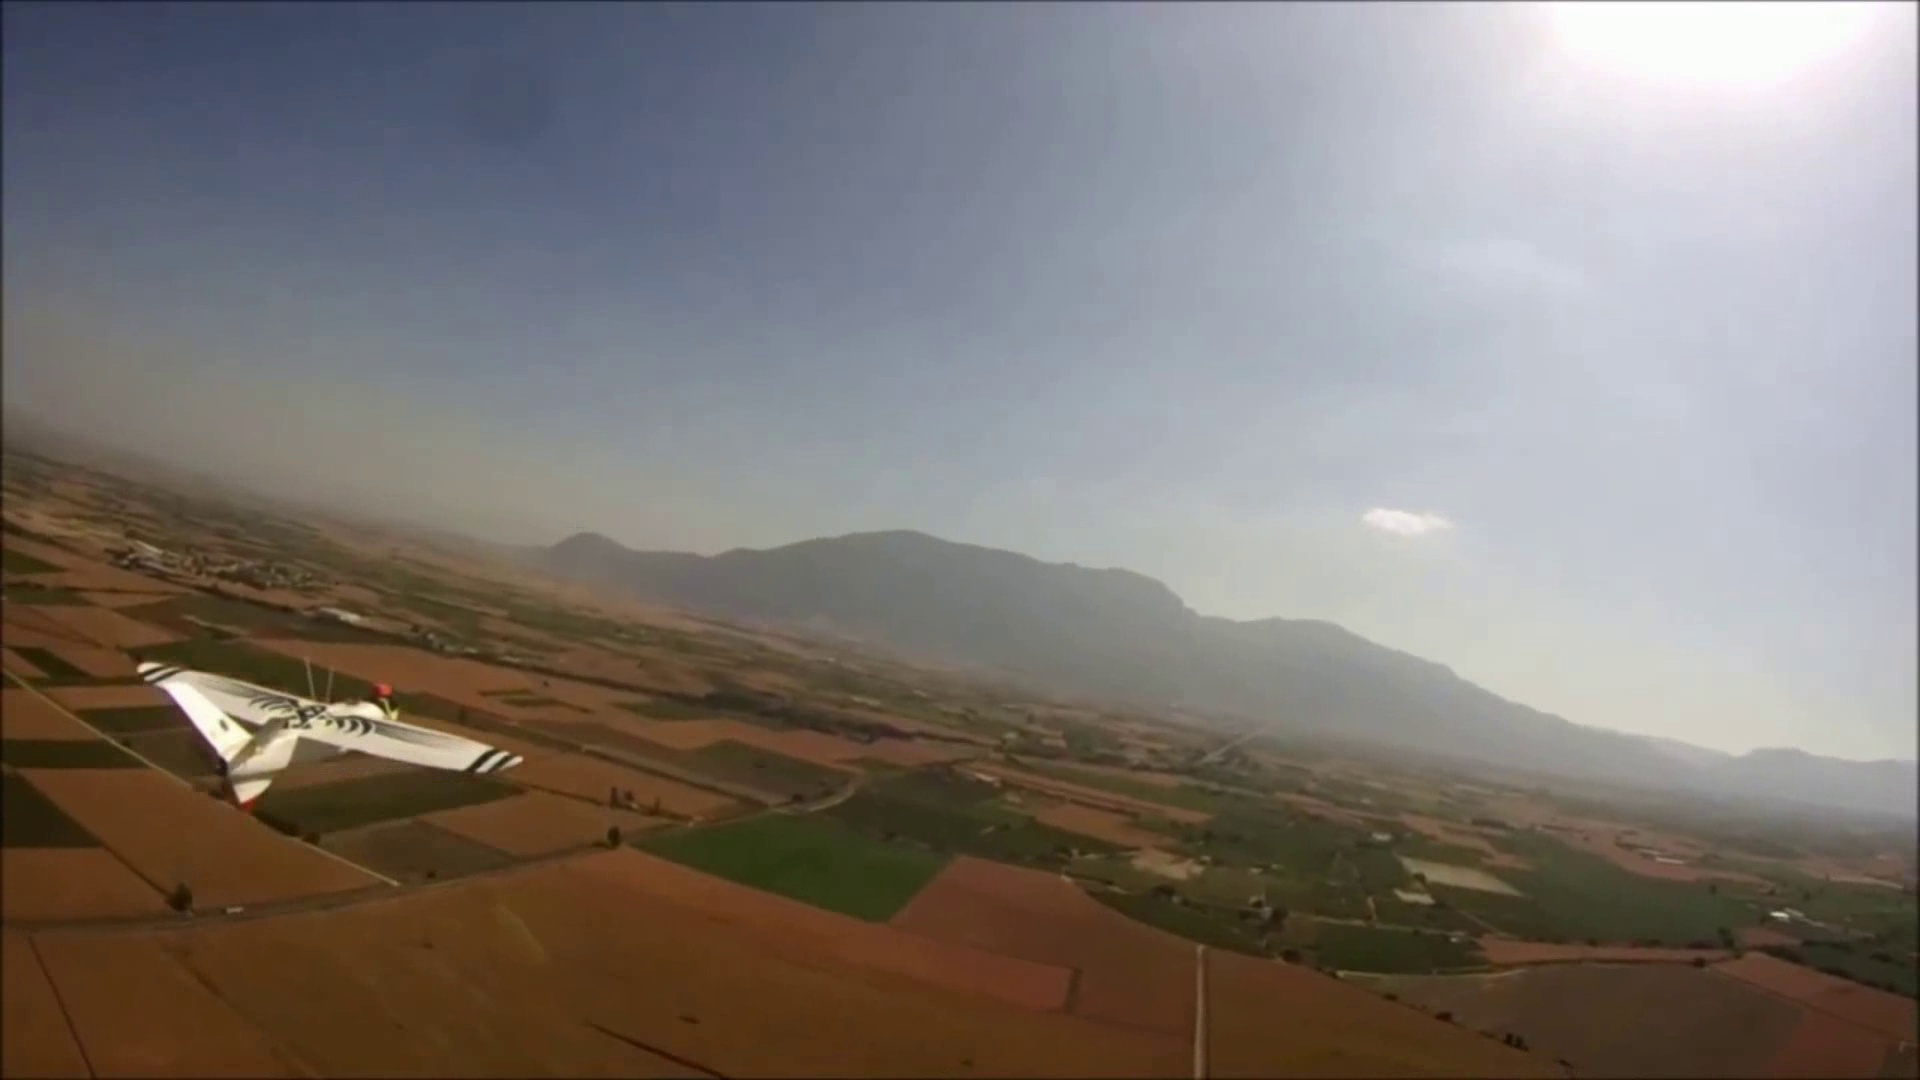airplane: (132, 634, 524, 816)
